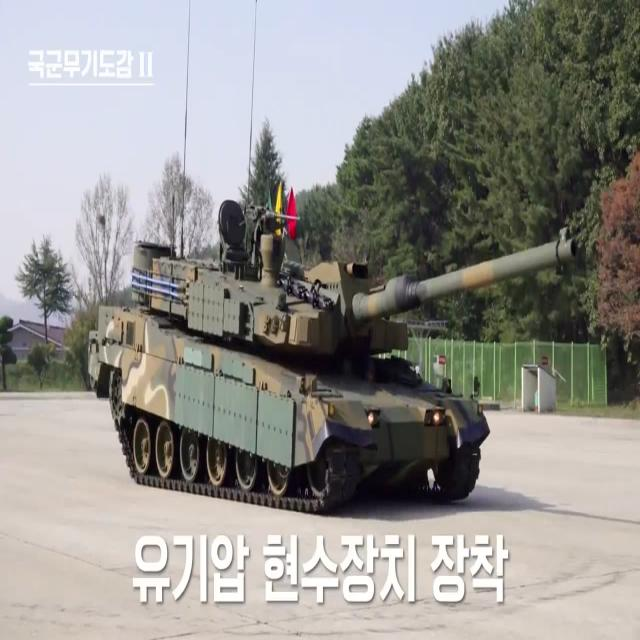korea tank: (88, 196, 582, 514)
